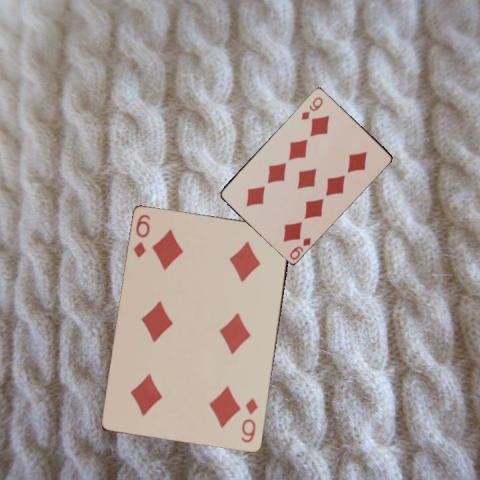6d: (238, 394, 259, 444), (131, 212, 152, 260)
9d: (298, 94, 324, 122), (286, 234, 312, 261)
